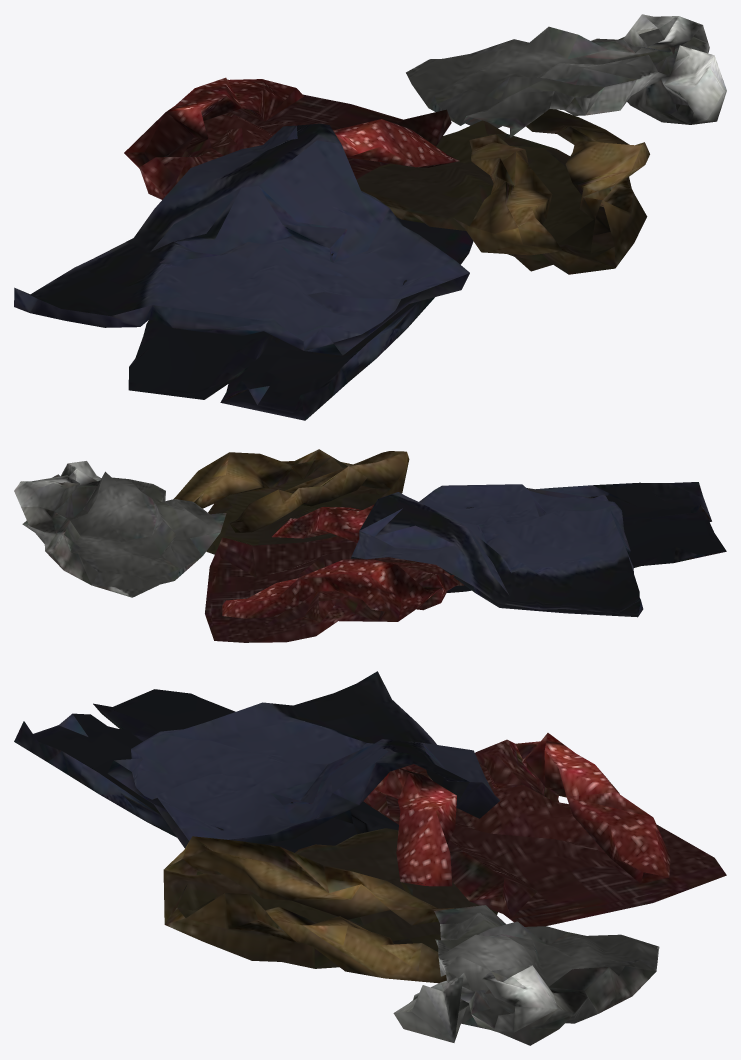
Rendered from pile5_1_lod1_web.glb.
3 views of the same model, one above another, from view 1: azimuth 30°, elevation 25°; view 2: azimuth 150°, elevation 25°; view 3: azimuth 270°, elevation 25° (orthographic). The views are drawn at different scales.
Visible parts, largest first — view 1: pile5_1_skirt4_Cloth, pile5_1_sweater1_Cloth, pile5_1_tshirt2_Cloth, pile5_1_shirt3_Cloth, pile5_1_trousers0_Cloth; view 2: pile5_1_skirt4_Cloth, pile5_1_shirt3_Cloth, pile5_1_tshirt2_Cloth, pile5_1_sweater1_Cloth, pile5_1_trousers0_Cloth; view 3: pile5_1_shirt3_Cloth, pile5_1_skirt4_Cloth, pile5_1_sweater1_Cloth, pile5_1_tshirt2_Cloth, pile5_1_trousers0_Cloth.
Part boxes in pixels (bbox=[...]): pile5_1_skirt4_Cloth: bbox=[14, 123, 469, 355]; pile5_1_sweater1_Cloth: bbox=[356, 109, 649, 274]; pile5_1_tshirt2_Cloth: bbox=[406, 14, 726, 137]; pile5_1_shirt3_Cloth: bbox=[124, 77, 459, 199]; pile5_1_trousers0_Cloth: bbox=[128, 218, 473, 420]; pile5_1_skirt4_Cloth: bbox=[351, 484, 643, 617]; pile5_1_shirt3_Cloth: bbox=[205, 504, 464, 642]; pile5_1_tshirt2_Cloth: bbox=[14, 461, 226, 597]; pile5_1_sweater1_Cloth: bbox=[173, 449, 409, 554]; pile5_1_trousers0_Cloth: bbox=[447, 482, 726, 592]; pile5_1_shirt3_Cloth: bbox=[363, 733, 726, 926]; pile5_1_skirt4_Cloth: bbox=[107, 671, 499, 847]; pile5_1_sweater1_Cloth: bbox=[163, 828, 497, 983]; pile5_1_tshirt2_Cloth: bbox=[393, 905, 659, 1045]; pile5_1_trousers0_Cloth: bbox=[14, 689, 398, 852].
Bounding box in the file's own units: 1.54 × 0.1853 × 1.28.
1 material, 1 textured.
